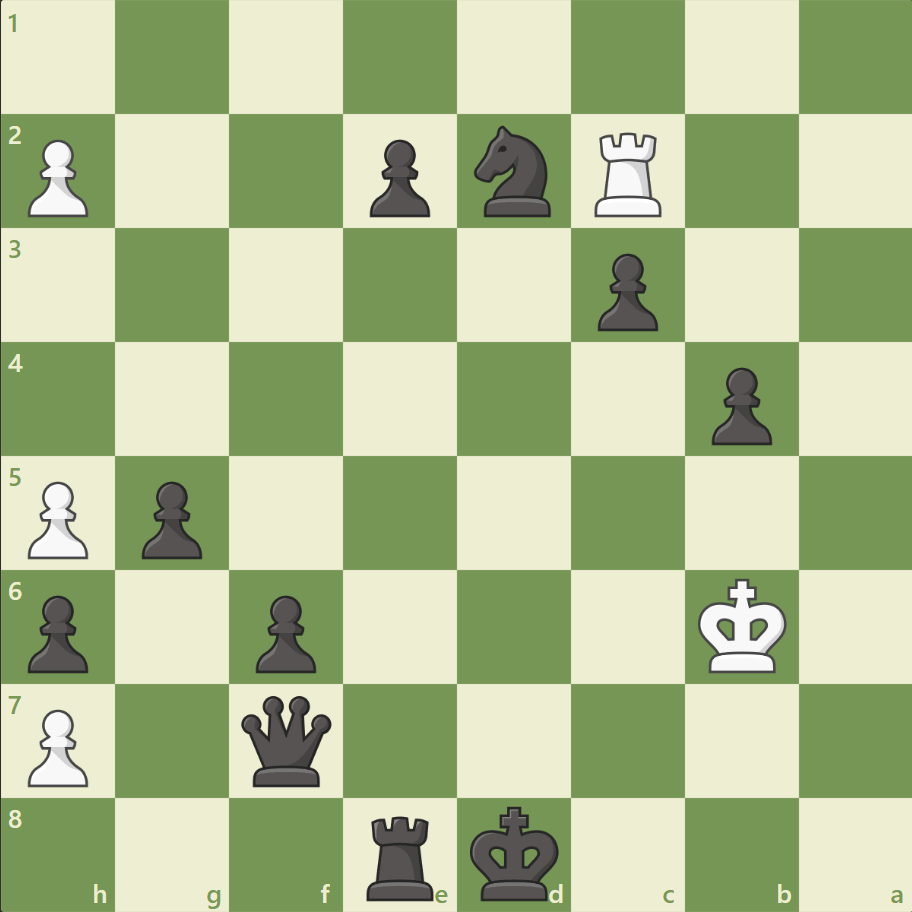K: (692, 571, 792, 679)
P: (20, 700, 95, 791), (20, 473, 95, 564), (20, 132, 95, 223)
R: (587, 125, 670, 222)
k: (465, 798, 565, 906)
n: (465, 121, 562, 223)
p: (247, 586, 322, 677), (20, 586, 95, 677), (133, 473, 208, 564), (701, 359, 776, 450), (588, 246, 662, 337), (361, 132, 435, 223)
q: (237, 690, 336, 789)
r: (360, 806, 442, 904)
